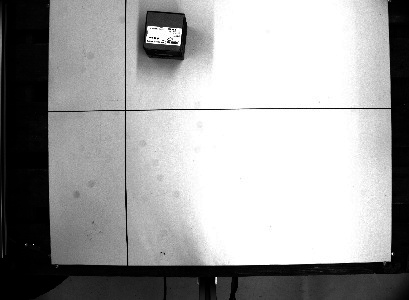b7: (141, 5, 188, 64)
